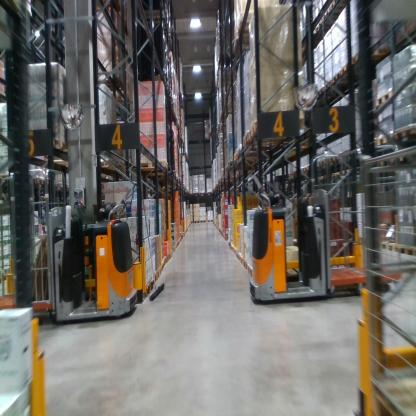pallet: (17, 133, 69, 155), (236, 14, 287, 36), (248, 121, 288, 144), (75, 151, 116, 173), (89, 70, 129, 92), (240, 131, 283, 150), (137, 156, 170, 179), (351, 46, 390, 65), (134, 7, 169, 28), (332, 69, 365, 85), (339, 59, 365, 79), (237, 147, 282, 158), (325, 74, 352, 92), (232, 151, 265, 165), (322, 4, 348, 21), (394, 147, 415, 167), (377, 233, 395, 255), (315, 15, 338, 32), (375, 88, 394, 108), (394, 124, 415, 142), (375, 130, 395, 147), (382, 153, 400, 171), (396, 240, 415, 257), (373, 155, 387, 173), (312, 155, 327, 170), (144, 277, 155, 297), (329, 1, 349, 12), (155, 266, 162, 282), (329, 153, 338, 165), (247, 263, 254, 278), (239, 252, 245, 265), (160, 256, 167, 266), (159, 260, 165, 271), (152, 271, 157, 284), (166, 252, 171, 263), (244, 259, 248, 271)
pallet_truck: (29, 175, 144, 328), (244, 168, 332, 310)
